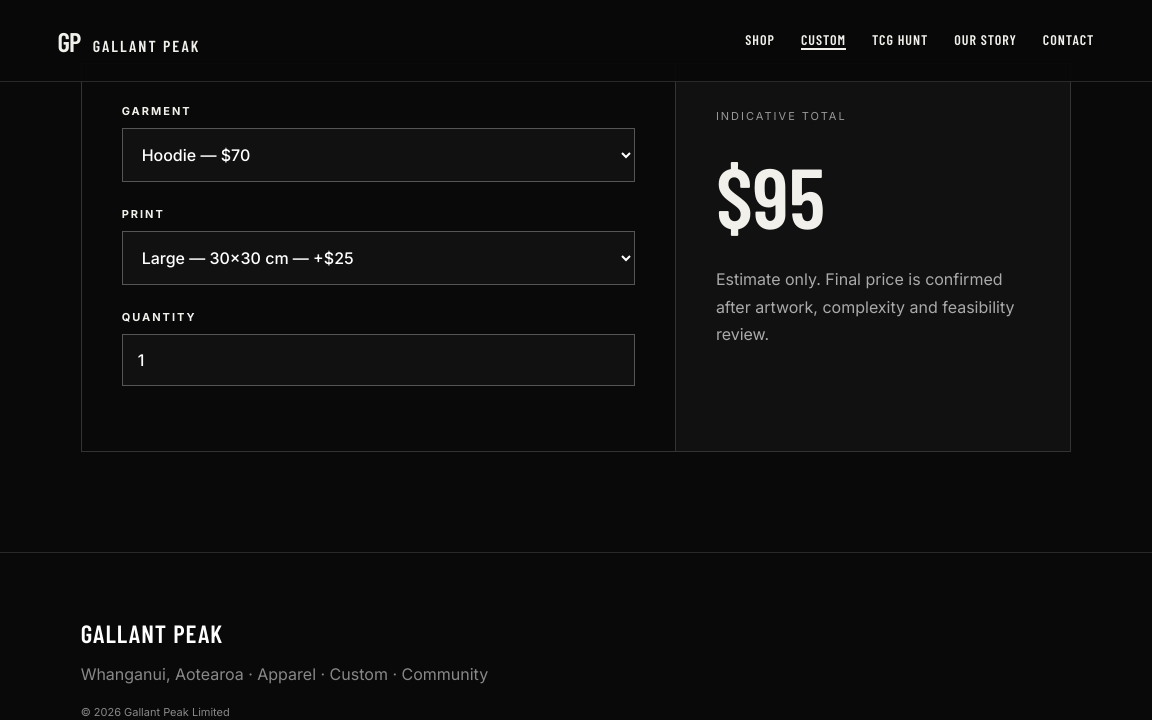
it: Custom estimator › withholds the estimate for invalid quantity
(page scrolled)
Clear the number field labelled "QUANTITY". click: (378, 360)
box: [122,334,635,386]
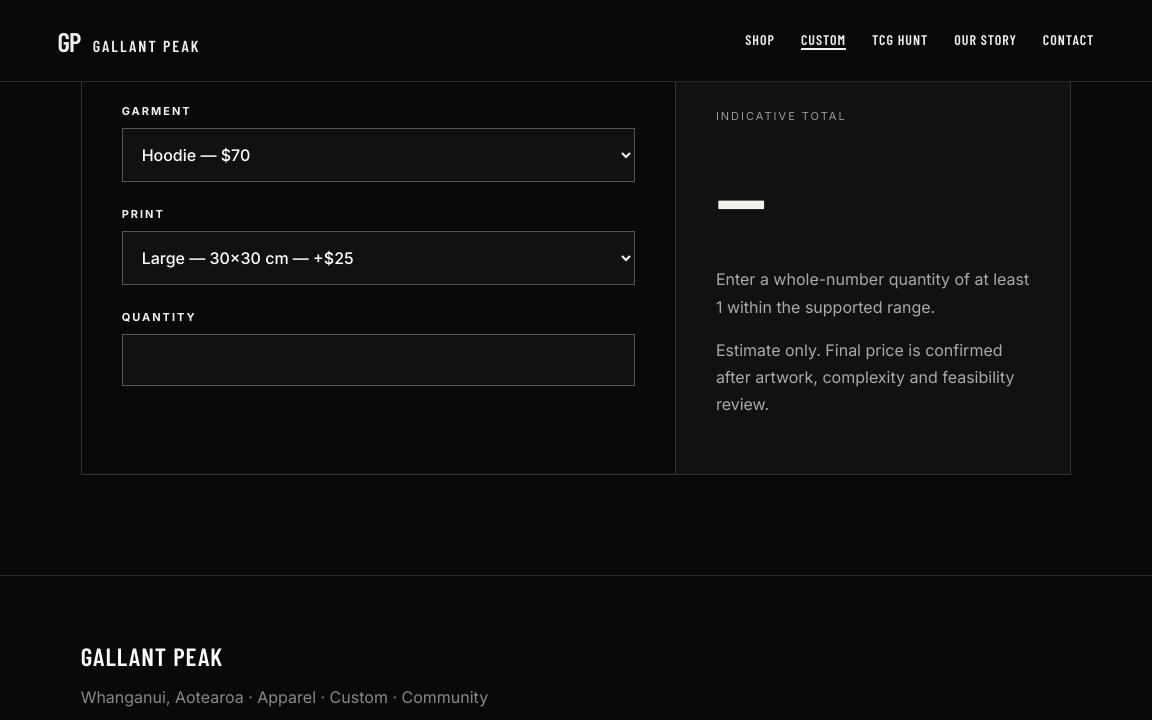
Expected: the message reads "Enter a whole-number quantity of at least 1 within the supported range.", [716,269,1029,316]
